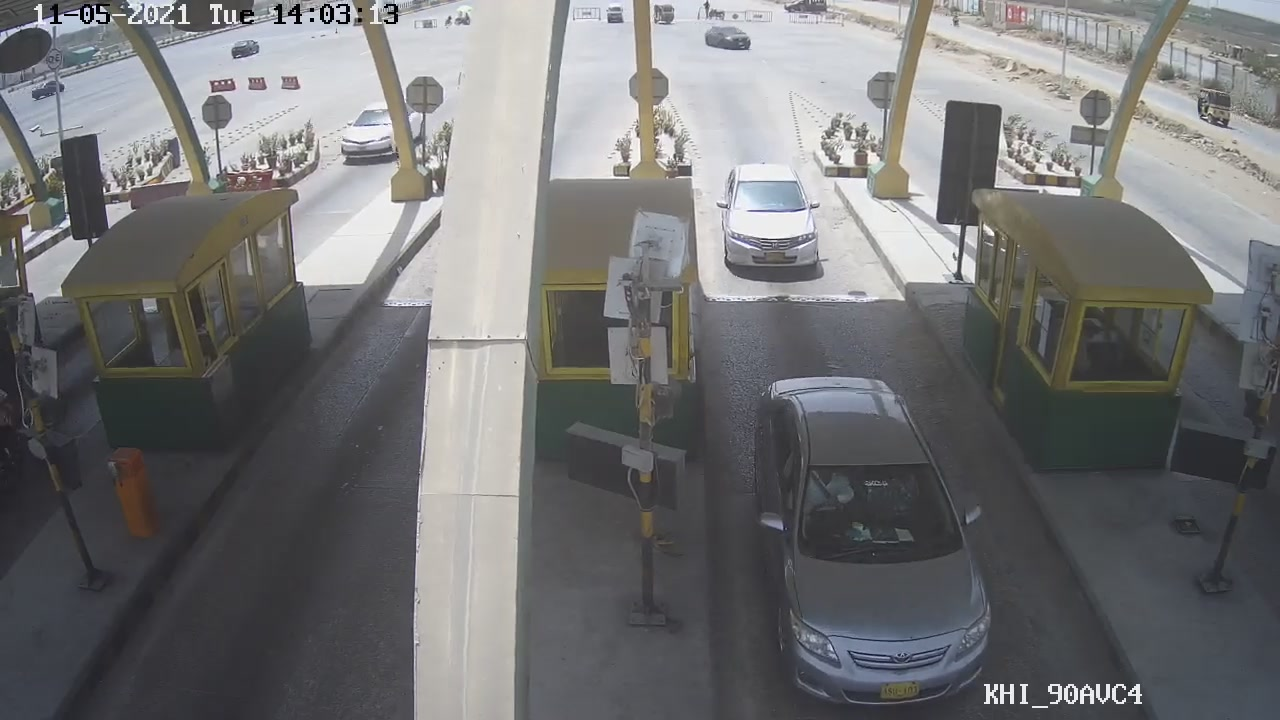F1: (745, 370, 1001, 717), (715, 152, 825, 287)
